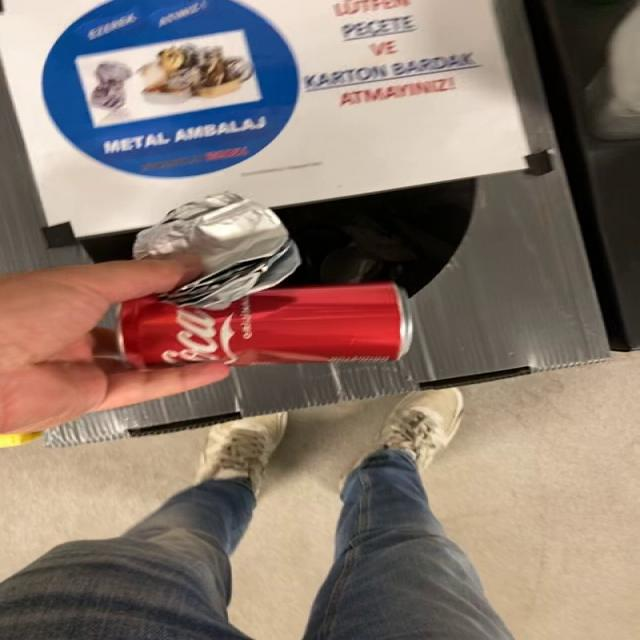bin: (1, 0, 608, 446)
metal: (113, 283, 412, 368)
